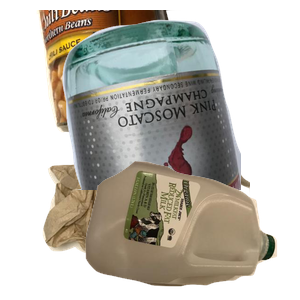glass: (60, 17, 300, 197)
metal: (34, 10, 213, 135)
plastic: (83, 159, 300, 300)
trash: (40, 138, 280, 300)
